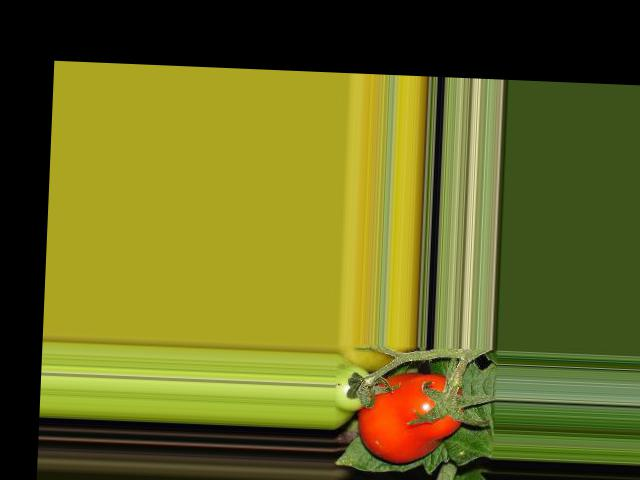tomato: (357, 371, 464, 465)
